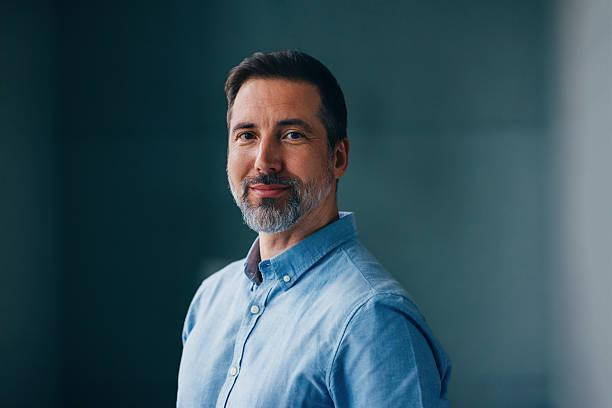no_goggle: (226, 115, 336, 154)
no_helmet: (215, 32, 360, 124)
no_vest: (179, 209, 458, 408)
